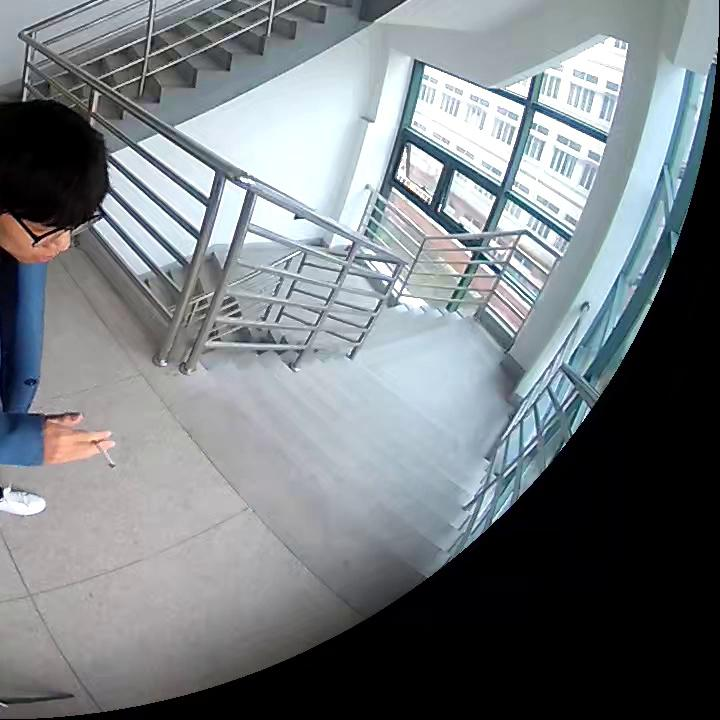handsmoke: (44, 410, 121, 467)
mouthwithoutsmoke: (2, 95, 111, 266)
